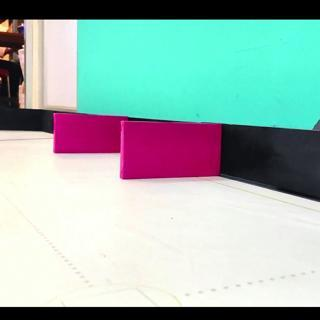xparking: (121, 125, 218, 176), (56, 115, 120, 153)
